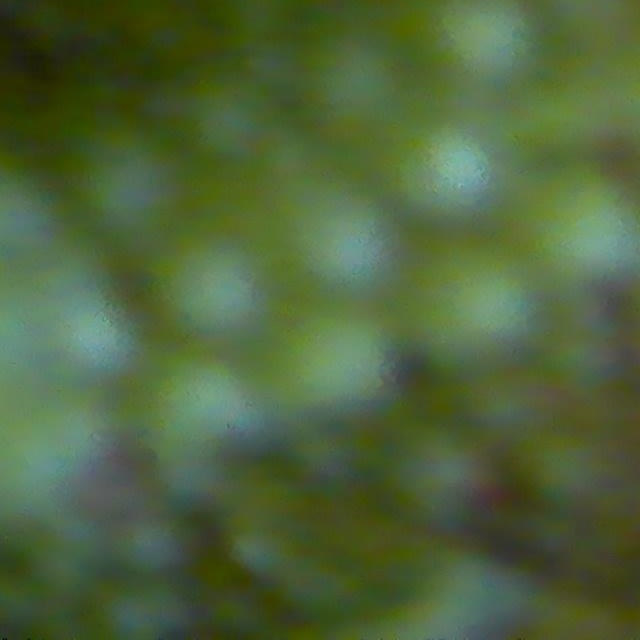SeaGrape: (260, 165, 396, 294), (406, 250, 540, 361), (385, 109, 503, 227), (151, 348, 270, 462), (269, 309, 396, 415), (75, 127, 185, 240), (152, 230, 270, 331), (388, 419, 495, 529), (411, 0, 530, 97), (521, 179, 640, 272), (303, 33, 405, 137), (523, 425, 616, 514), (51, 298, 140, 381), (190, 78, 272, 160), (467, 367, 547, 446), (99, 576, 190, 639), (117, 510, 192, 579)
